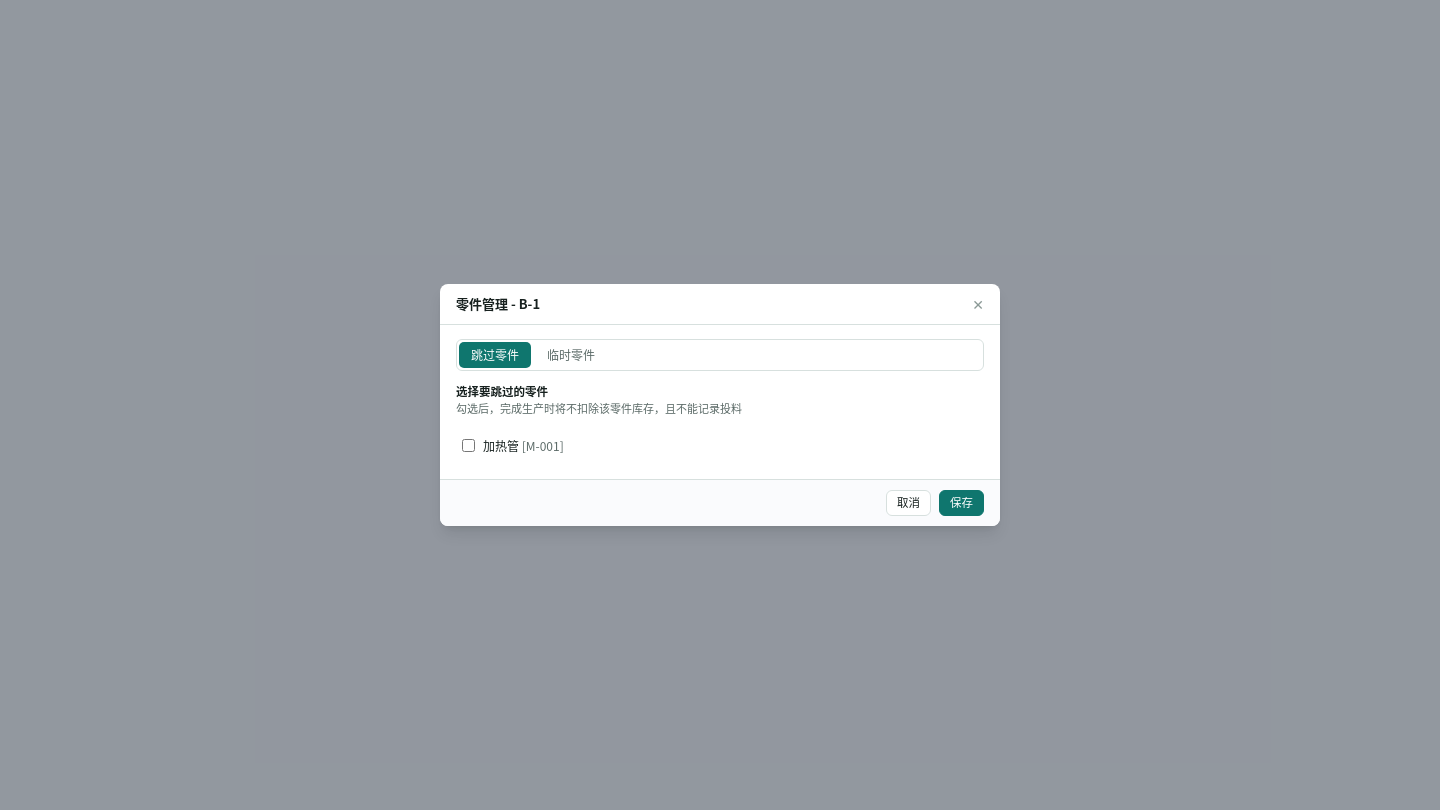
rejects an out-of-range loss rate before it reaches the server
The width and height of the screenshot is (1440, 810).
Click the tab "临时零件".
click(571, 355)  # box x1=535 y1=342 x2=607 y2=368
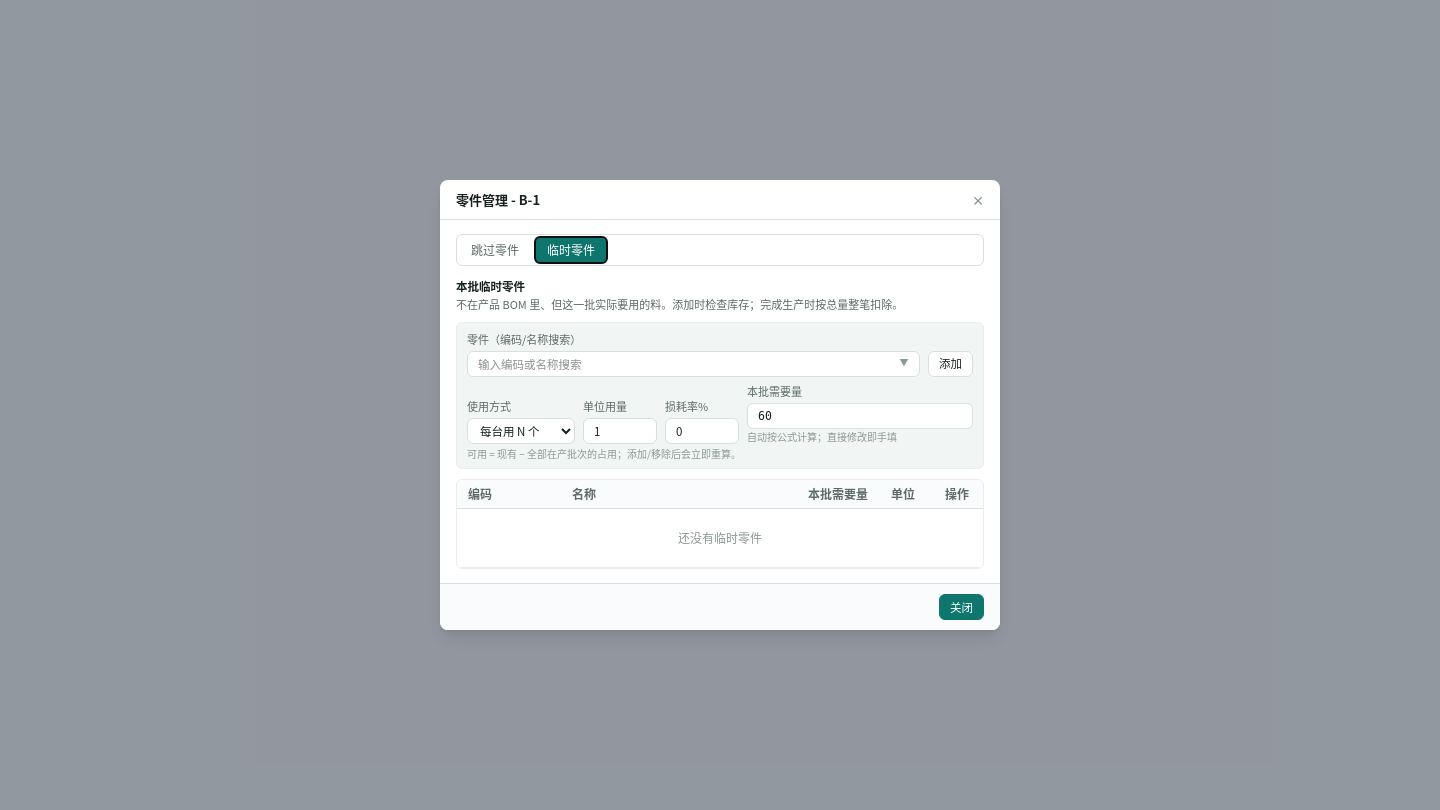
Type "M-002" into the dropdown named "临时零件".
click(694, 364); type("M-002")  # box x1=467 y1=351 x2=920 y2=377
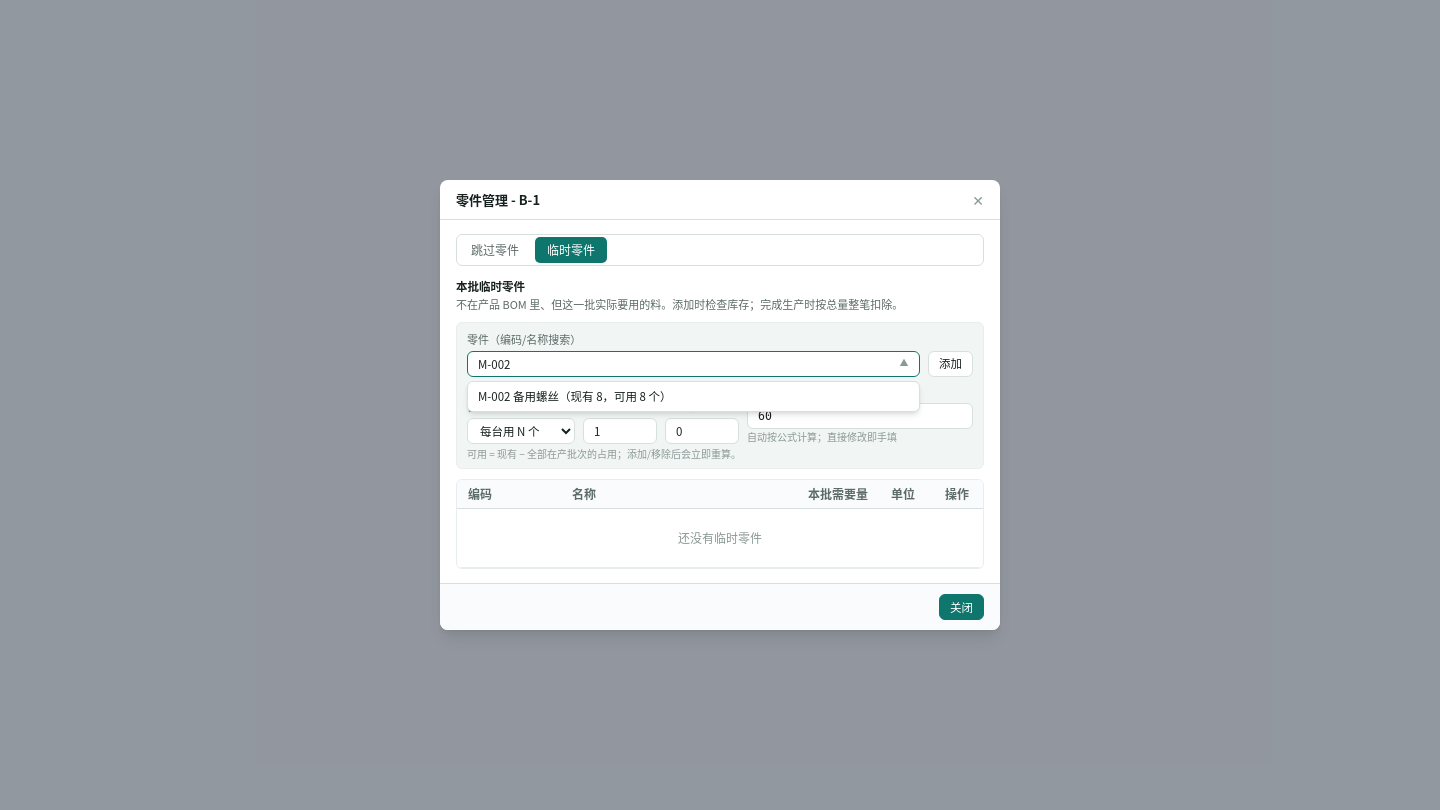
Click the option "M-002 备用螺丝（现有 8，可用 8 个）".
click(575, 396)  # box x1=478 y1=388 x2=672 y2=404
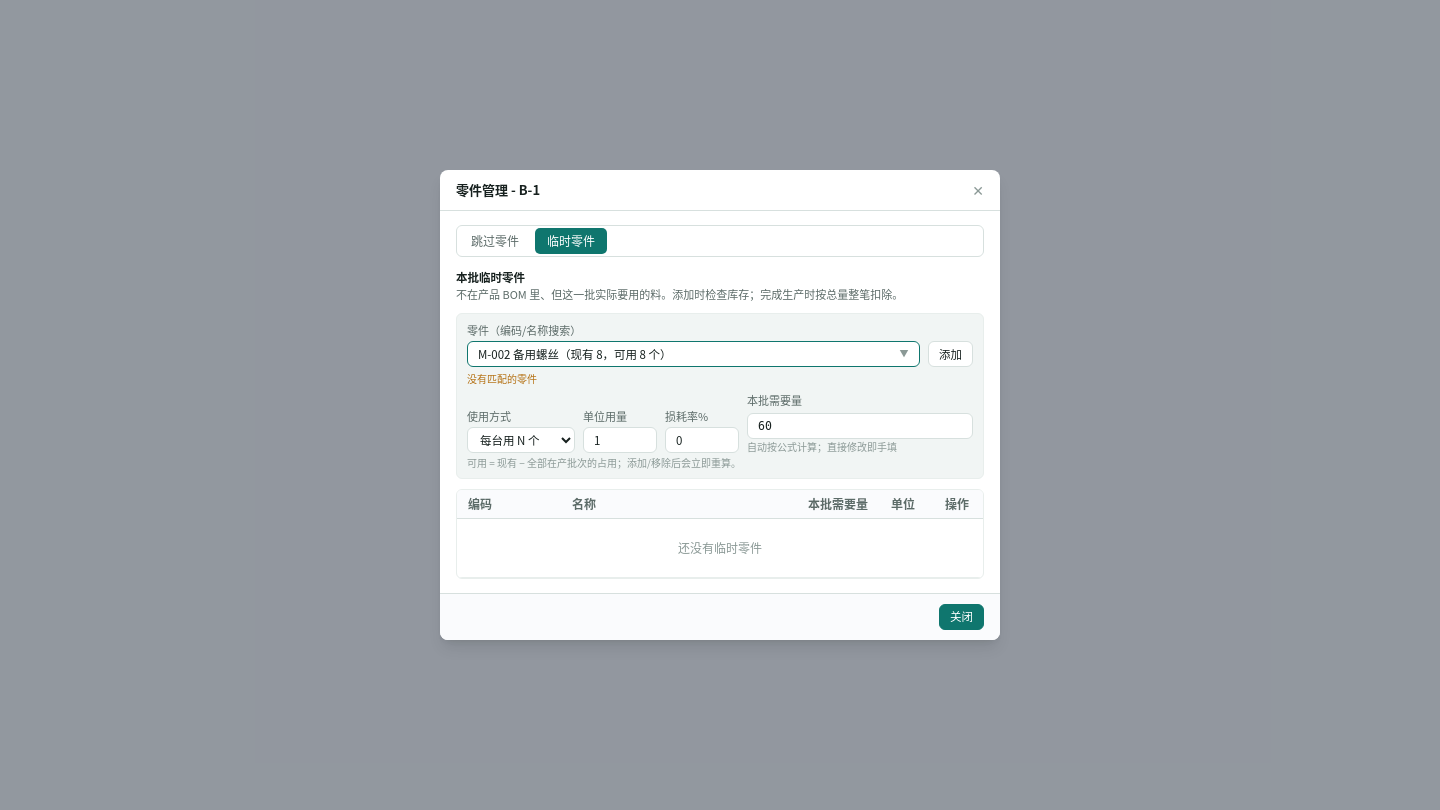
Type "150" into the field with placeholder "0" below "损耗率%".
click(702, 440); type("150")  # box x1=665 y1=427 x2=739 y2=453
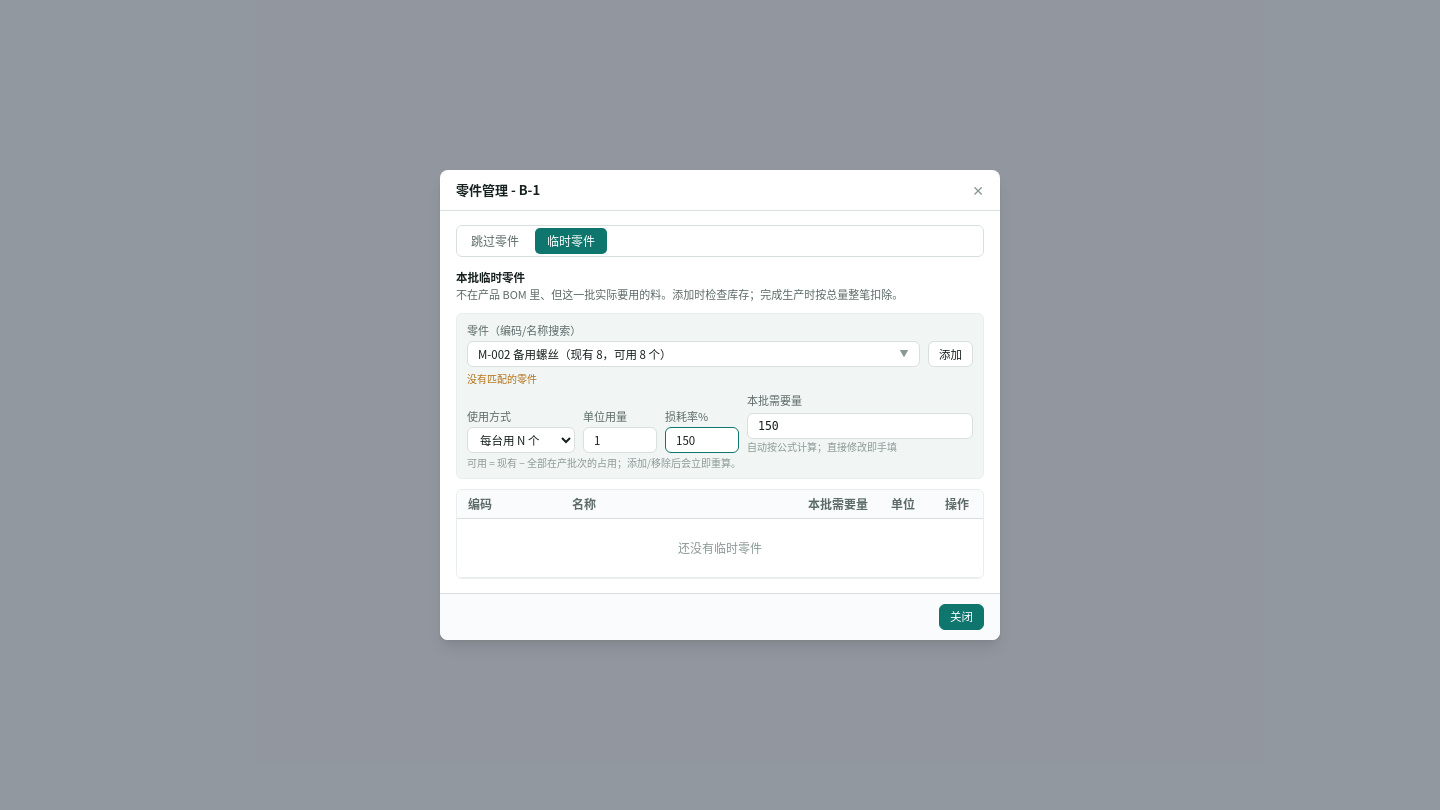
Click the button "添加".
click(950, 354)  # box x1=928 y1=341 x2=973 y2=367
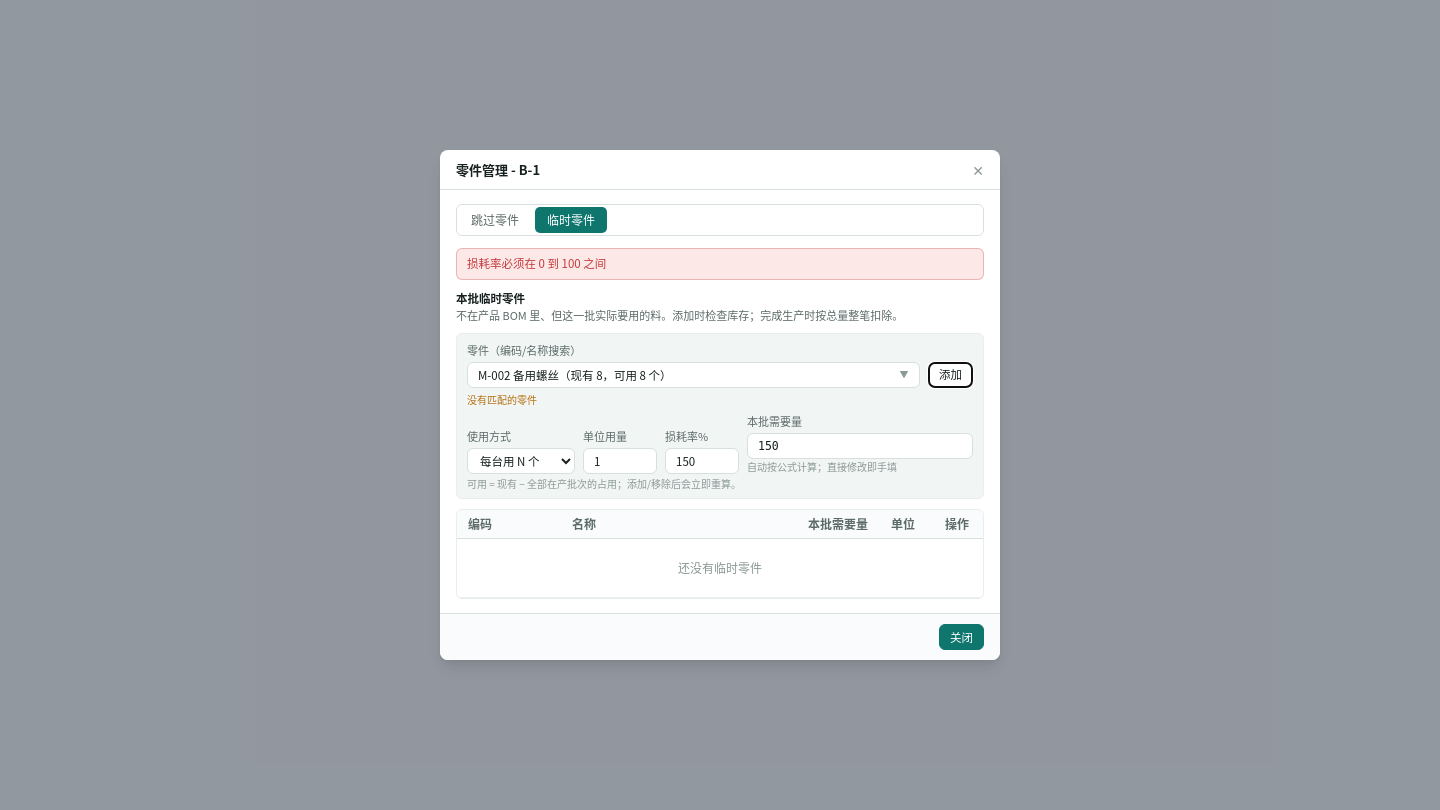
Now the text "损耗率必须在 0 到 100 之间" is shown, box x1=456 y1=248 x2=984 y2=280
